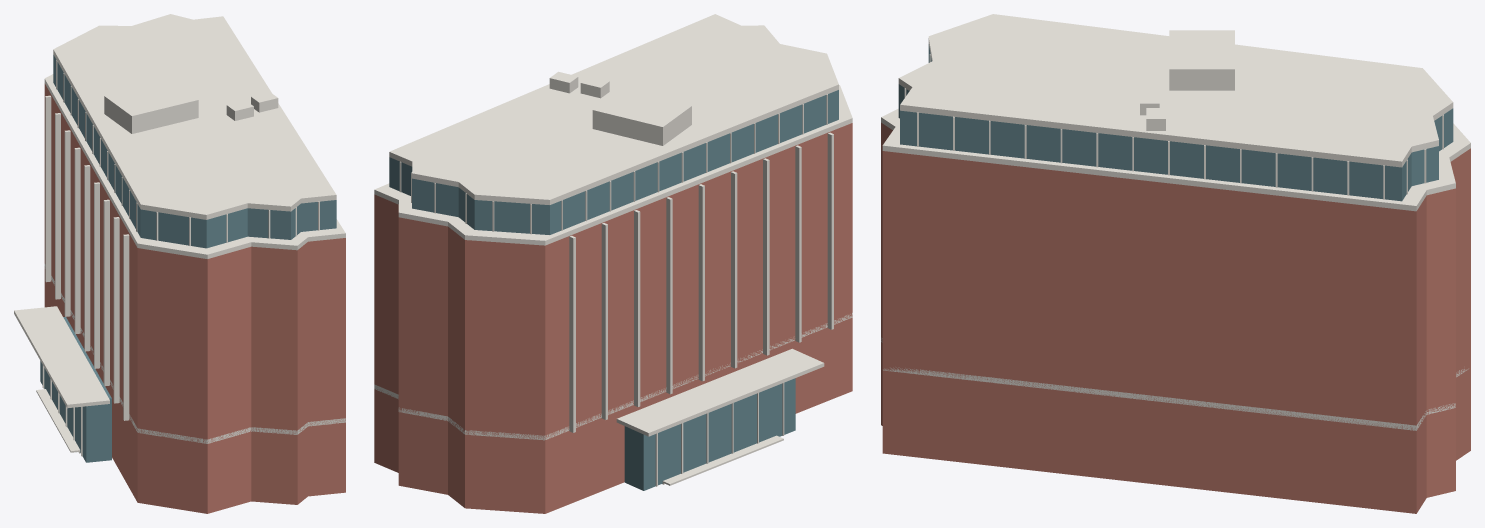
The model's file is chow.glb.
The picture shows the model from 3 angles, left to right: view 1: azimuth 30°, elevation 25°; view 2: azimuth 150°, elevation 25°; view 3: azimuth 270°, elevation 25°; orthographic projection. The views are drawn at different scales.
Parts seen in each view (by area): view 1: CHW_tower, CHW_roof, CHW_podium, CHW_crown, CHW_canopy, CHW_crown_band, CHW_roof_plant, CHW_atrium, CHW_fin_2, CHW_fin_7, CHW_fin_8, CHW_fin_0 (+9 smaller); view 2: CHW_tower, CHW_roof, CHW_podium, CHW_crown, CHW_atrium, CHW_canopy, CHW_crown_band, CHW_roof_plant, CHW_band, CHW_fin_0, CHW_fin_6, CHW_fin_8 (+7 smaller); view 3: CHW_tower, CHW_podium, CHW_roof, CHW_crown, CHW_crown_band, CHW_roof_plant, CHW_band.
Part boxes in pixels (x1=…): CHW_tower: x1=44, y1=83, x2=345, y2=442; CHW_roof: x1=53, y1=14, x2=336, y2=219; CHW_podium: x1=44, y1=268, x2=345, y2=513; CHW_crown: x1=53, y1=55, x2=336, y2=248; CHW_canopy: x1=14, y1=306, x2=109, y2=408; CHW_crown_band: x1=44, y1=74, x2=345, y2=258; CHW_roof_plant: x1=104, y1=80, x2=198, y2=133; CHW_atrium: x1=40, y1=317, x2=111, y2=462; CHW_fin_2: x1=64, y1=130, x2=70, y2=316; CHW_fin_7: x1=113, y1=217, x2=119, y2=403; CHW_fin_8: x1=123, y1=234, x2=129, y2=420; CHW_fin_0: x1=45, y1=95, x2=51, y2=282; CHW_tower: x1=374, y1=123, x2=852, y2=440; CHW_roof: x1=389, y1=14, x2=838, y2=204; CHW_podium: x1=374, y1=317, x2=852, y2=513; CHW_crown: x1=389, y1=90, x2=838, y2=234; CHW_atrium: x1=624, y1=378, x2=795, y2=490; CHW_canopy: x1=616, y1=348, x2=824, y2=436; CHW_crown_band: x1=374, y1=85, x2=852, y2=245; CHW_roof_plant: x1=592, y1=88, x2=691, y2=145; CHW_band: x1=374, y1=313, x2=852, y2=440; CHW_fin_0: x1=569, y1=235, x2=575, y2=432; CHW_fin_6: x1=763, y1=158, x2=769, y2=355; CHW_fin_8: x1=827, y1=132, x2=833, y2=329; CHW_tower: x1=881, y1=122, x2=1470, y2=430; CHW_podium: x1=881, y1=342, x2=1470, y2=513; CHW_roof: x1=898, y1=14, x2=1453, y2=167; CHW_crown: x1=898, y1=44, x2=1453, y2=201; CHW_crown_band: x1=881, y1=108, x2=1470, y2=211; CHW_roof_plant: x1=1169, y1=30, x2=1234, y2=90; CHW_band: x1=881, y1=337, x2=1468, y2=430.
Bounding box in the file's own units: 30.65 × 31.1 × 45.05.
